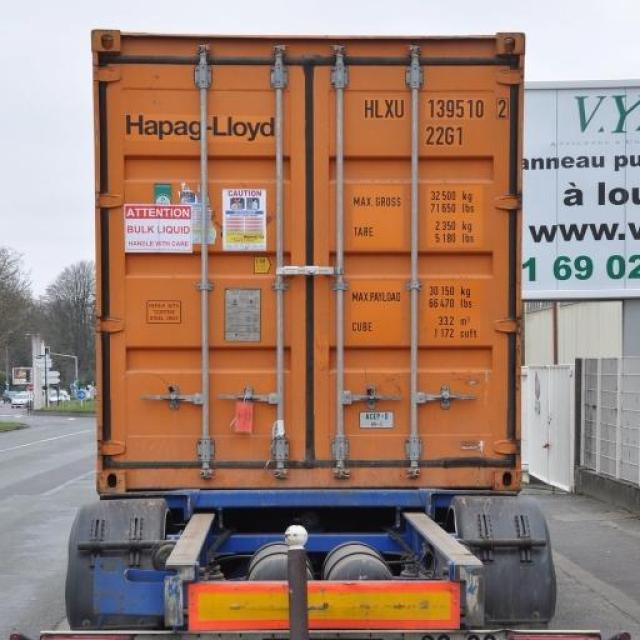ISO: (425, 126, 466, 147)
container_number: (364, 99, 507, 122)
